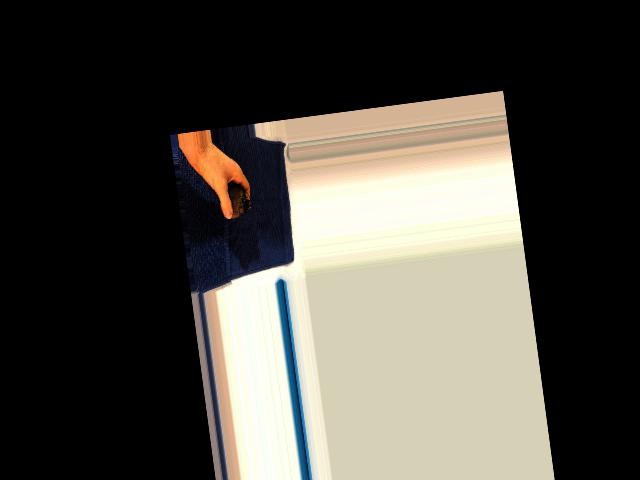beet: (204, 180, 252, 222)
